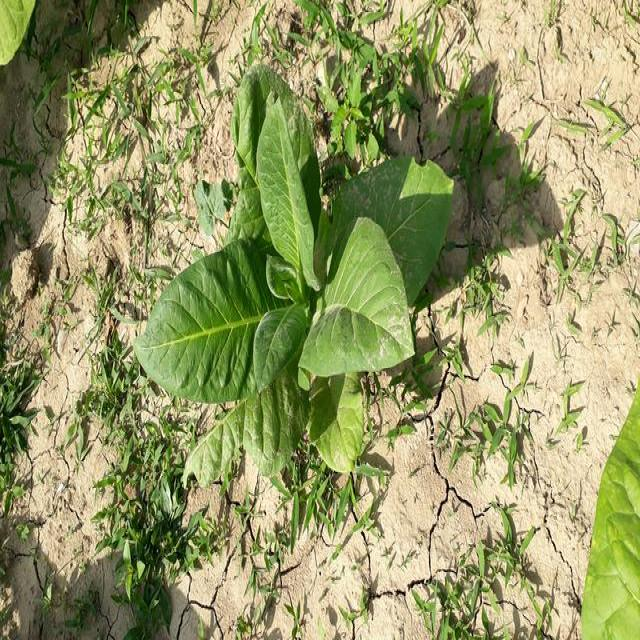crop: (142, 72, 462, 490)
